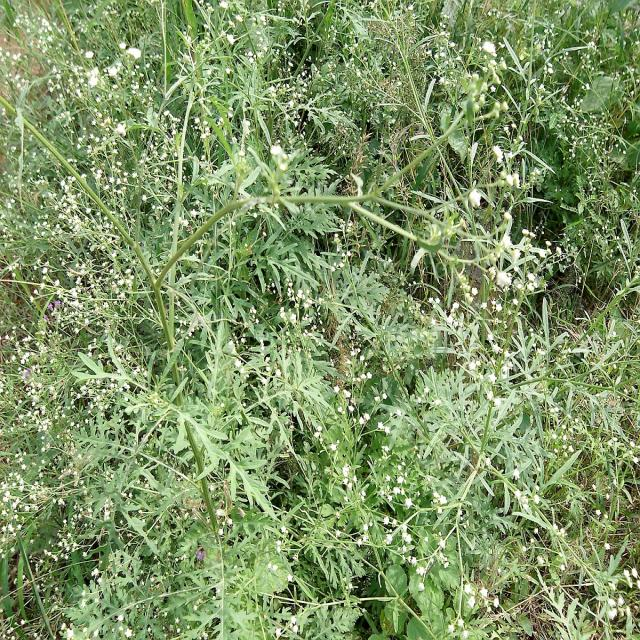Poisonous-Parthenium: (10, 223, 589, 640), (63, 0, 573, 238)
